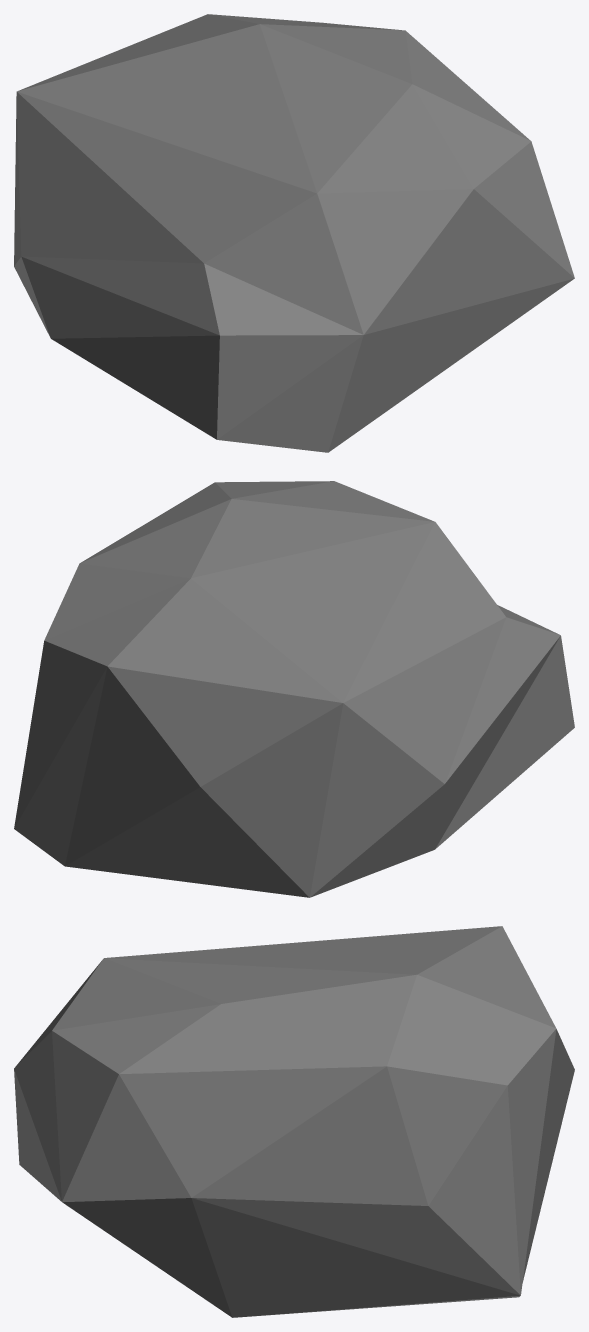
Rendered from Stone_01.fbx.
3 views of the same model, one above another, from view 1: azimuth 30°, elevation 25°; view 2: azimuth 150°, elevation 25°; view 3: azimuth 270°, elevation 25° (orthographic). The views are drawn at different scales.
Parts seen in each view (by area): view 1: Cube; view 2: Cube; view 3: Cube.
Boxes of the visible parts, x1=… form: Cube: x1=14, y1=14, x2=574, y2=452; Cube: x1=14, y1=481, x2=574, y2=897; Cube: x1=14, y1=926, x2=574, y2=1317.
Size of the model in its own units: 190 by 129 by 219.
